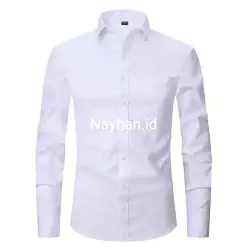kemeja_benar: (37, 13, 218, 237)
